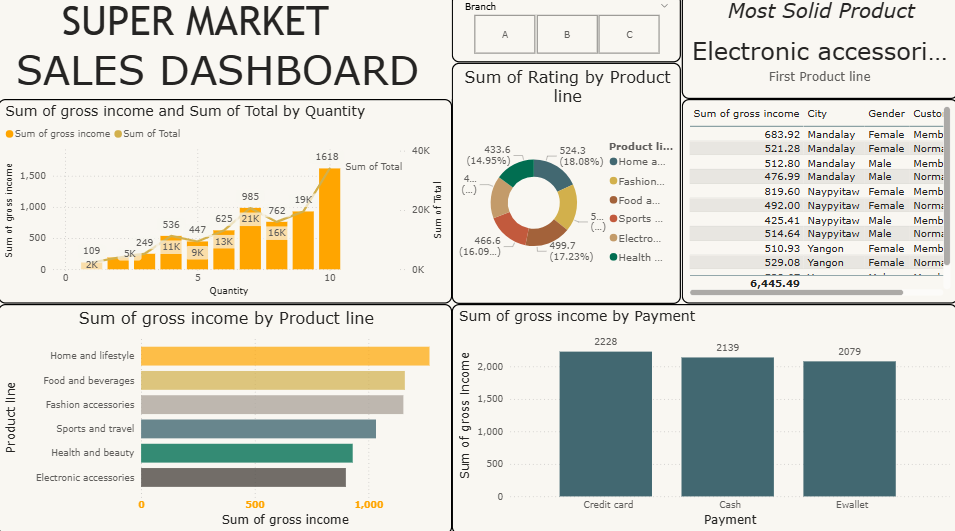

What the dashboard file says about the page in this screenshot:
{"tool":"powerbi","page":{"name":"Page 7","canvas":[1280,720],"ordinal":0},"visuals":[{"type":"slicer","fields":{"Values":["supermarket_salesdata.Branch"]},"box":[605.7,0,305.7,91.4],"z":0},{"type":"clusteredBarChart","fields":{"Category":["supermarket_salesdata.Product line"],"Y":["Sum(supermarket_salesdata.gross income)"]},"box":[0,412.9,605.7,307.1],"z":1000},{"type":"donutChart","fields":{"Y":["Sum(supermarket_salesdata.Rating)"],"Category":["supermarket_salesdata.Product line"]},"box":[605.7,91.4,305.7,321.4],"z":2000},{"type":"tableEx","fields":{"Values":["Sum(supermarket_salesdata.gross income)","supermarket_salesdata.City","supermarket_salesdata.Gender","supermarket_salesdata.Customer type"]},"box":[911.4,140,368.6,272.9],"z":3000},{"type":"card","title":"Most Solid Product","fields":{"Values":["Min(supermarket_salesdata.Product line)"]},"box":[911.4,0,368.6,140],"z":4000},{"type":"clusteredColumnChart","fields":{"Category":["supermarket_salesdata.Payment"],"Y":["Sum(supermarket_salesdata.gross income)"]},"box":[605.7,412.9,674.3,307.1],"z":5000},{"type":"lineStackedColumnComboChart","fields":{"Category":["supermarket_salesdata.Quantity"],"Y":["Sum(supermarket_salesdata.gross income)"],"Y2":["Sum(supermarket_salesdata.Total)"]},"box":[0,140,605.7,272.9],"z":6000},{"type":"textbox","box":[0,0,605.1,140],"z":7000}]}

Visuals, with their boxes in screenshot pixels (x1, y1, x2, y2), scaled from the page's 1280x720 canvas onto the 955x531 screenshot:
slicer - supermarket_salesdata.Branch: rect(452, 0, 680, 67)
clusteredBarChart - supermarket_salesdata.Product line x Sum(supermarket_salesdata.gross income): rect(0, 305, 452, 530)
donutChart - Sum(supermarket_salesdata.Rating) x supermarket_salesdata.Product line: rect(452, 67, 680, 304)
tableEx - Sum(supermarket_salesdata.gross income) x supermarket_salesdata.City: rect(680, 103, 954, 305)
"Most Solid Product" card: rect(680, 0, 954, 103)
clusteredColumnChart - supermarket_salesdata.Payment x Sum(supermarket_salesdata.gross income): rect(452, 305, 954, 530)
lineStackedColumnComboChart - supermarket_salesdata.Quantity x Sum(supermarket_salesdata.gross income): rect(0, 103, 452, 305)
textbox: rect(0, 0, 451, 103)
